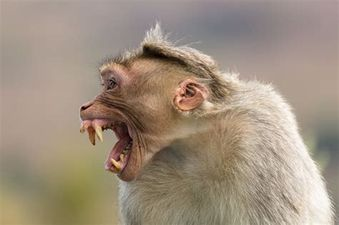monkey: (16, 9, 294, 212)
